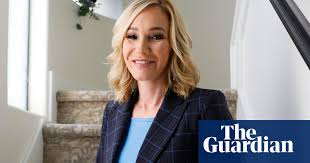white_female: (98, 1, 183, 81)
